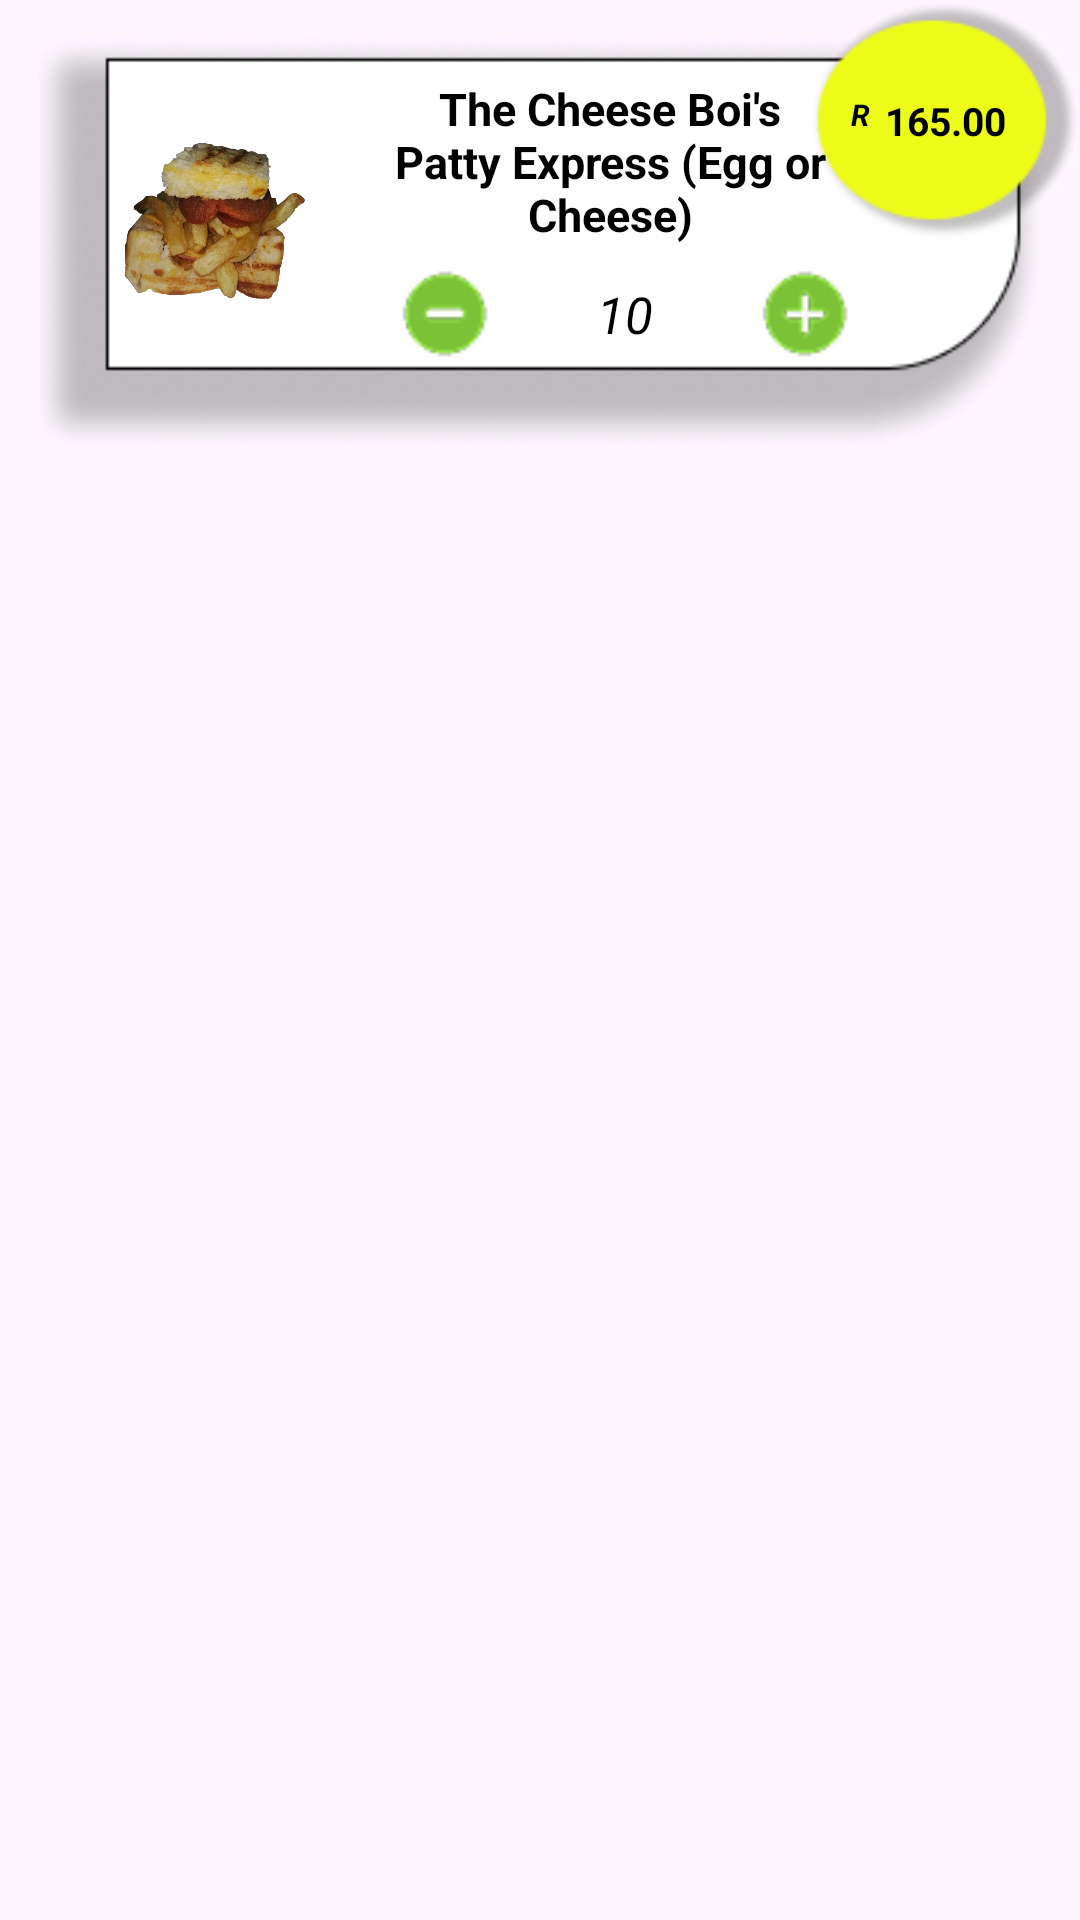

Icons on this 1080 x 1920 Android screen, each with the point to tap as (x,y):
kota: (214,221)
